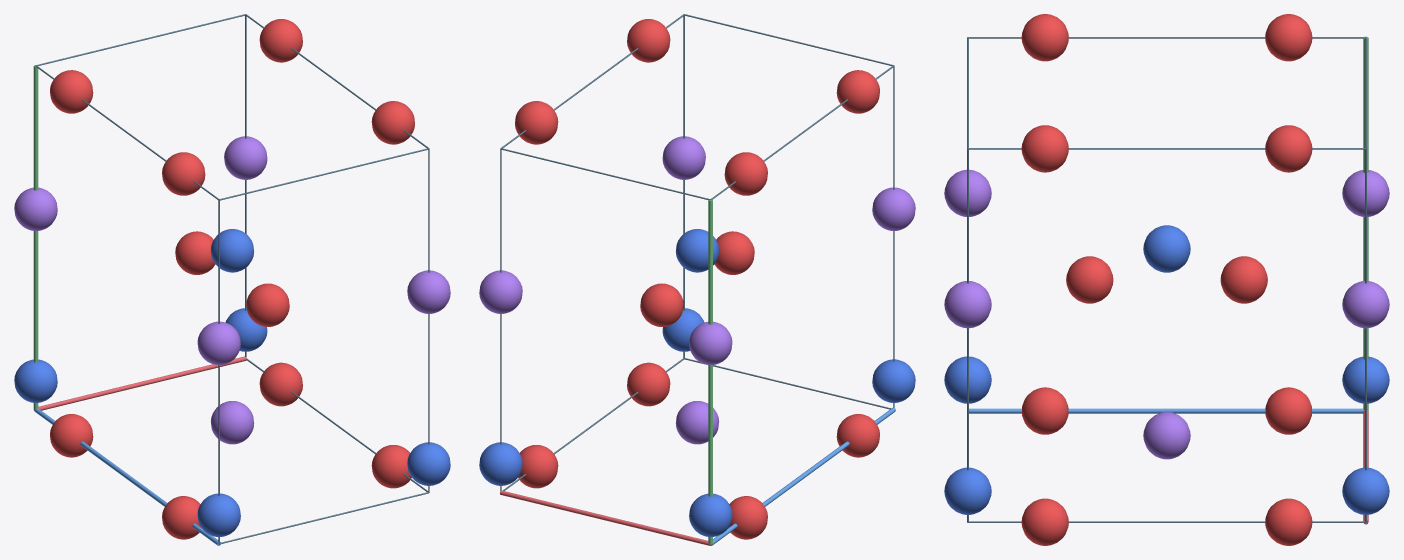
Rendered from chat-sodium-nitrite.glb.
3 renders of one model, left to right at view 1: azimuth 30°, elevation 25°; view 2: azimuth 150°, elevation 25°; view 3: azimuth 270°, elevation 25°, orthographic. The views are drawn at different scales.
Parts seen in each view (by area): view 1: O1 · O · 1 (×10), Na1 · Na · 1 (×5), Ô mạng và các trục a, b, c, N1 · N · 1 (×5); view 2: O1 · O · 1 (×10), Na1 · Na · 1 (×5), Ô mạng và các trục a, b, c, N1 · N · 1 (×5); view 3: O1 · O · 1 (×10), N1 · N · 1 (×5), Na1 · Na · 1 (×5), Ô mạng và các trục a, b, c.
Part boxes in pixels (box(x1,y1,x2,y2)): O1 · O · 1 (×10): box(50, 19, 414, 539); Na1 · Na · 1 (×5): box(14, 136, 450, 444); Ô mạng và các trục a, b, c: box(33, 14, 429, 545); N1 · N · 1 (×5): box(14, 229, 450, 536); O1 · O · 1 (×10): box(515, 19, 879, 539); Na1 · Na · 1 (×5): box(479, 136, 915, 444); Ô mạng và các trục a, b, c: box(500, 14, 895, 545); N1 · N · 1 (×5): box(479, 229, 915, 536); O1 · O · 1 (×10): box(1021, 14, 1312, 545); N1 · N · 1 (×5): box(944, 225, 1389, 514); Na1 · Na · 1 (×5): box(944, 169, 1389, 459); Ô mạng và các trục a, b, c: box(967, 36, 1368, 524).
Size of the model in its own units: 4.19 by 6.2 by 6.01.
